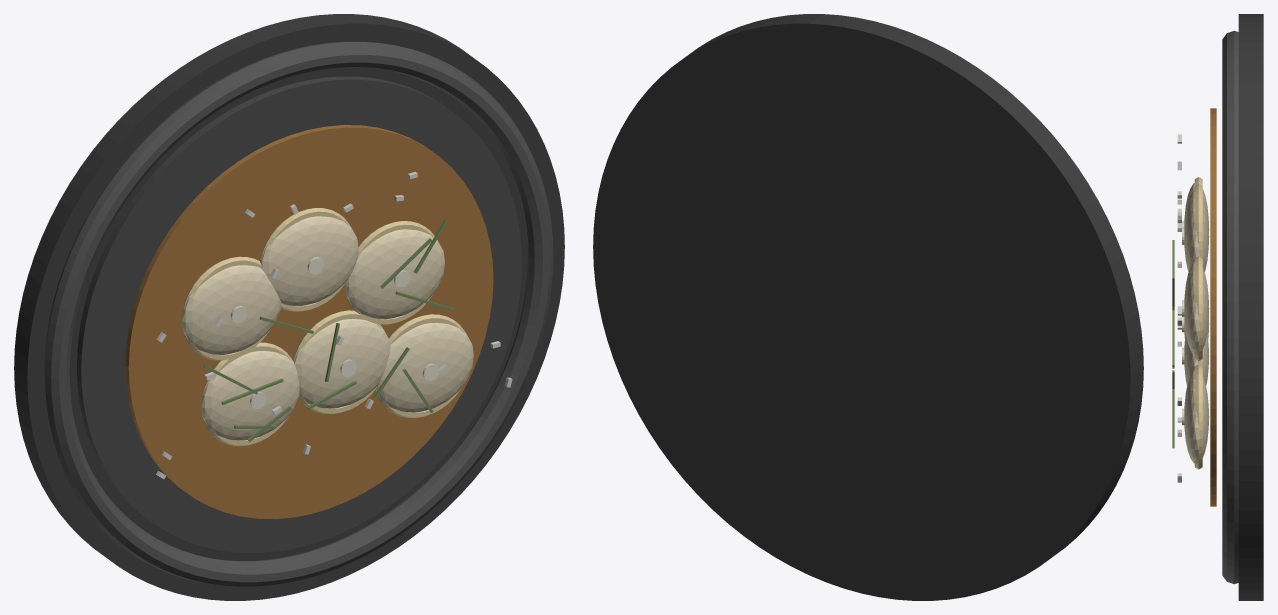
The model's file is 01_goat_cheese_ravioli_brown_butter.glb.
3 views of the same model, side by side, from view 1: azimuth 30°, elevation 25°; view 2: azimuth 150°, elevation 25°; view 3: azimuth 270°, elevation 25° (orthographic). The views are drawn at different scales.
Parts seen in each view (by area): view 1: brown_butter_pool, plate_surface, plate_base, plate_rim, ravioli_pillow_0, ravioli_pillow_1, ravioli_pillow_2, ravioli_pillow_4, ravioli_pillow_3, ravioli_pillow_5, ravioli_crimp_0, ravioli_crimp_1 (+4 smaller); view 2: plate_base; view 3: plate_base, plate_rim, brown_butter_pool, ravioli_pillow_5, ravioli_pillow_2, ravioli_pillow_1, ravioli_crimp_2, ravioli_crimp_5, ravioli_pillow_4, ravioli_crimp_1, charred_rosemary_6, ravioli_pillow_0 (+1 smaller).
Part boxes in pixels (x1=…): brown_butter_pool: x1=125, y1=125, x2=493, y2=519; plate_surface: x1=77, y1=76, x2=521, y2=552; plate_base: x1=14, y1=14, x2=564, y2=600; plate_rim: x1=44, y1=41, x2=553, y2=586; ravioli_pillow_0: x1=182, y1=265, x2=281, y2=354; ravioli_pillow_1: x1=260, y1=216, x2=358, y2=305; ravioli_pillow_2: x1=345, y1=229, x2=444, y2=319; ravioli_pillow_4: x1=293, y1=319, x2=390, y2=408; ravioli_pillow_3: x1=201, y1=351, x2=299, y2=440; ravioli_pillow_5: x1=375, y1=323, x2=473, y2=412; ravioli_crimp_0: x1=183, y1=256, x2=269, y2=360; ravioli_crimp_1: x1=260, y1=208, x2=350, y2=311; plate_base: x1=593, y1=14, x2=1143, y2=600; plate_base: x1=1238, y1=14, x2=1263, y2=600; plate_rim: x1=1222, y1=30, x2=1238, y2=584; brown_butter_pool: x1=1210, y1=108, x2=1216, y2=506; ravioli_pillow_5: x1=1184, y1=370, x2=1209, y2=463; ravioli_pillow_2: x1=1184, y1=262, x2=1209, y2=355; ravioli_pillow_1: x1=1184, y1=190, x2=1209, y2=271; ravioli_crimp_2: x1=1194, y1=256, x2=1202, y2=361; ravioli_crimp_5: x1=1194, y1=364, x2=1202, y2=469; ravioli_pillow_4: x1=1184, y1=333, x2=1209, y2=385; ravioli_crimp_1: x1=1194, y1=184, x2=1202, y2=257; charred_rosemary_6: x1=1172, y1=389, x2=1174, y2=448; ravioli_pillow_0: x1=1184, y1=183, x2=1209, y2=229.
Bounding box in the file's own units: 0.28 × 0.28 × 0.0436.
